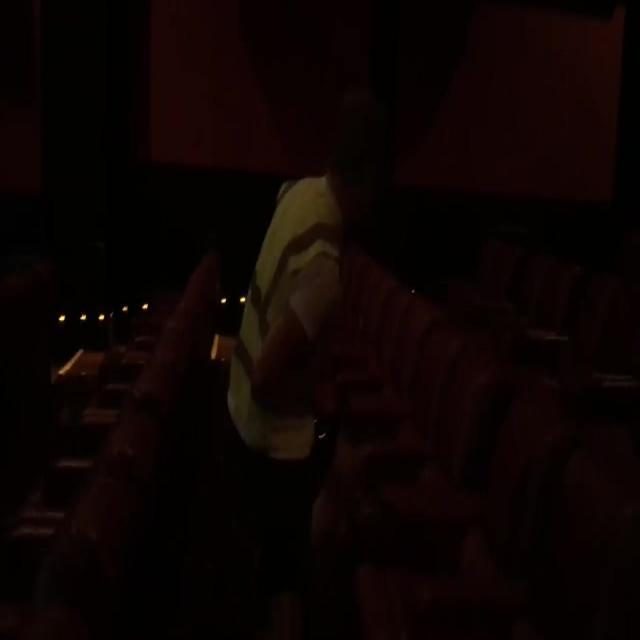reflective_jacket: (219, 160, 362, 475)
